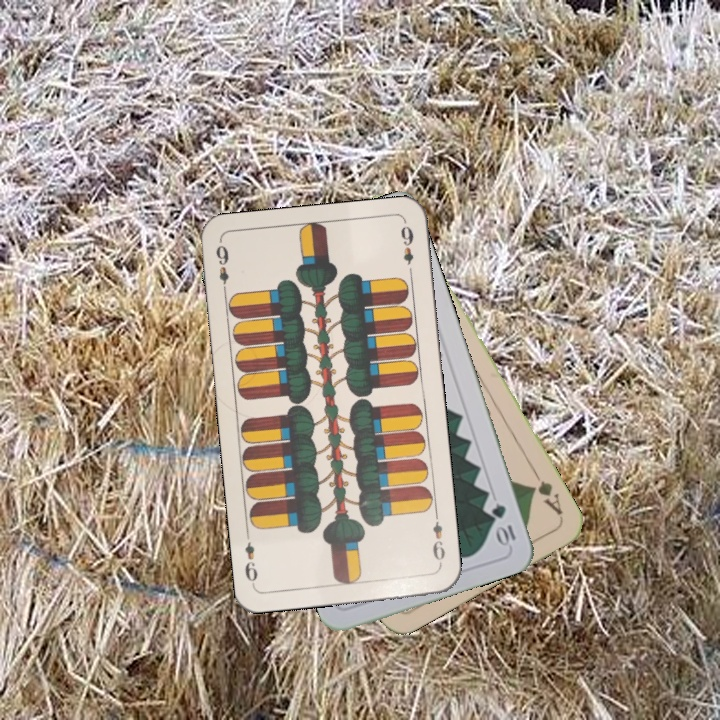E9: (428, 509, 448, 569), (212, 241, 232, 298)
G10: (487, 499, 518, 549)
GA: (527, 466, 566, 518)
